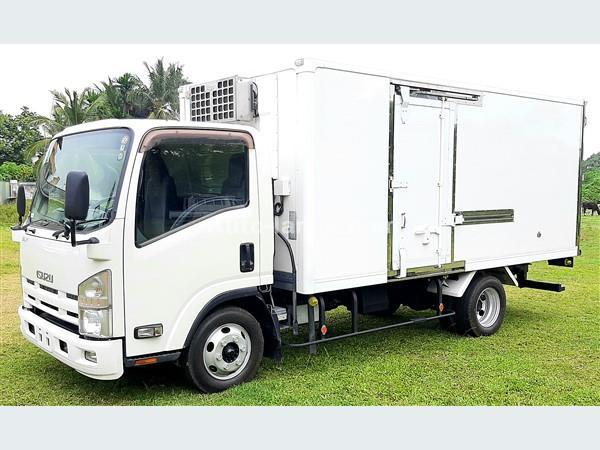truck: (11, 56, 584, 394)
